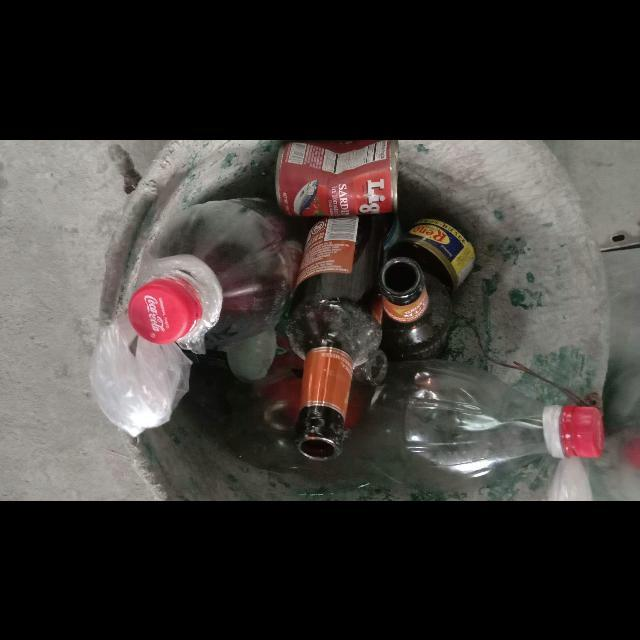aluminum: (275, 139, 399, 217), (402, 217, 478, 287)
glass_bottle: (288, 213, 394, 459), (377, 254, 455, 361)
plastic_bottle: (325, 359, 550, 488), (127, 197, 302, 352), (232, 366, 307, 469), (558, 405, 605, 458)
